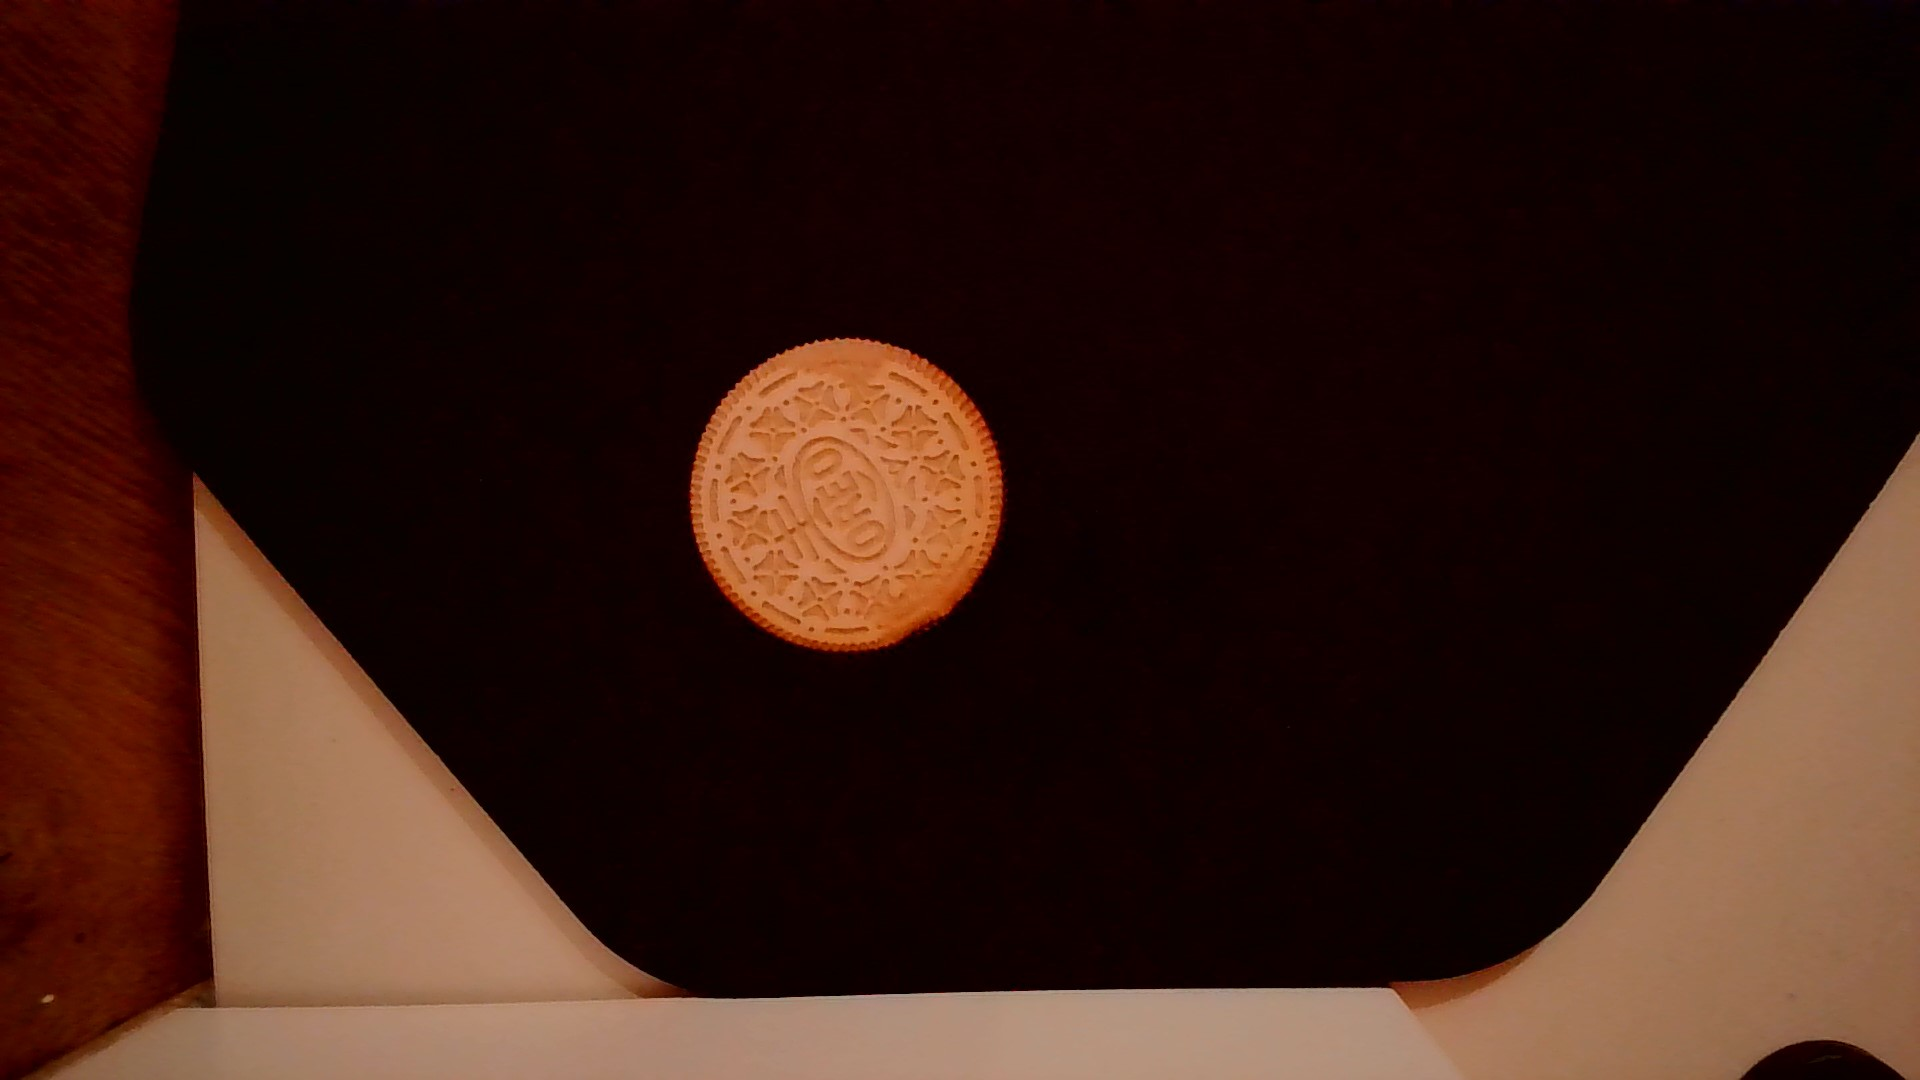Effacé: (876, 564, 967, 632), (786, 343, 878, 384)
Oréo: (682, 335, 1011, 663)
